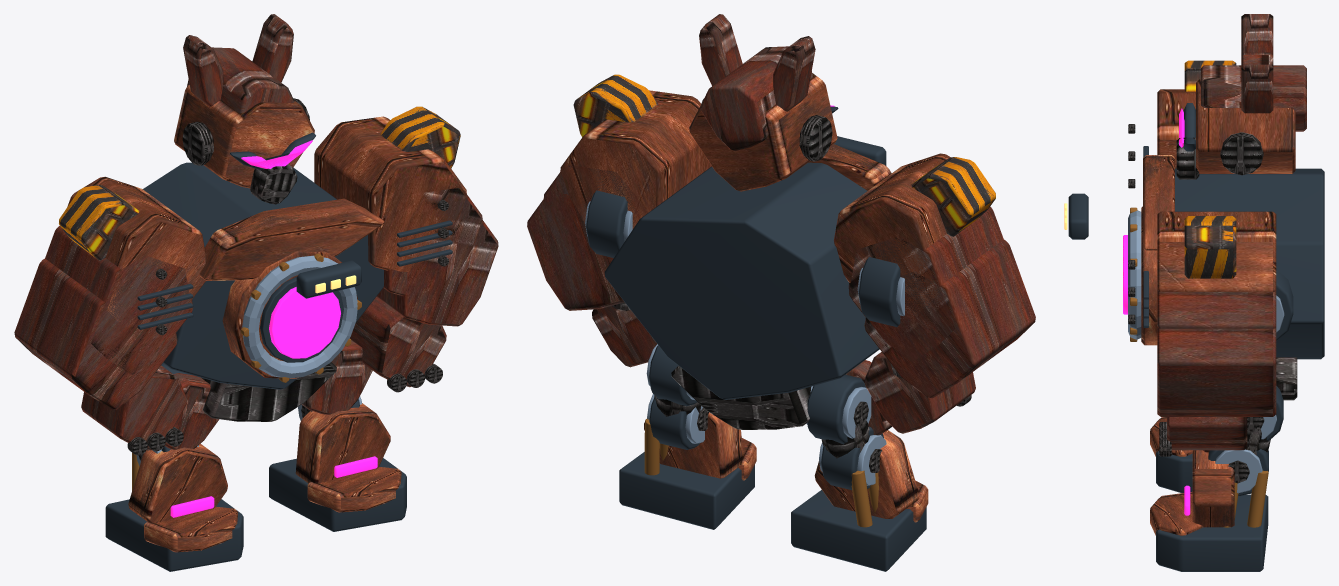
File: sector_09_2.glb
3 renders of one model, left to right at view 1: azimuth 30°, elevation 25°; view 2: azimuth 150°, elevation 25°; view 3: azimuth 270°, elevation 25°, orthographic. The views are drawn at different scales.
Parts seen in each view (by area): view 1: Navy crown, Upper chest plating, Reinforced heavy torso, Face guard, Greave armor, Greave armor.001, Salvaged armor patch, Reactor concentric ring, Reactor lens, Servo housing.001, Servo housing.004, Tapered thigh shield.001 (+1 smaller); view 2: Reinforced heavy torso, Navy crown, Upper chest plating, Servo housing.001, Servo housing.004, Salvaged armor patch, Face guard, Greave armor, Greave armor.001, Bearing ring.002, Hub.002, Calf piston (+5 smaller); view 3: Navy crown, Upper chest plating, Reinforced heavy torso, Servo housing.004, Greave armor.001, Salvaged armor patch, Face guard, Reactor concentric ring, Servo housing.001, Bearing ring.008, Hub.008, Calf piston.002 (+2 smaller).
Boxes of the visible parts, left/top/right/bottom form: Navy crown: left=14, top=14, right=498, bottom=450; Upper chest plating: left=67, top=85, right=466, bottom=378; Reinforced heavy torso: left=137, top=132, right=452, bottom=389; Face guard: left=127, top=98, right=448, bottom=455; Greave armor: left=128, top=443, right=237, bottom=552; Greave armor.001: left=295, top=403, right=401, bottom=512; Salvaged armor patch: left=59, top=106, right=460, bottom=260; Reactor concentric ring: left=242, top=255, right=357, bottom=378; Reactor lens: left=241, top=140, right=340, bottom=358; Servo housing.001: left=105, top=363, right=243, bottom=571; Servo housing.004: left=269, top=399, right=406, bottom=531; Tapered thigh shield.001: left=302, top=340, right=372, bottom=414; Reinforced heavy torso: left=586, top=106, right=900, bottom=399; Navy crown: left=527, top=14, right=1035, bottom=433; Upper chest plating: left=560, top=73, right=950, bottom=319; Servo housing.001: left=791, top=374, right=926, bottom=571; Servo housing.004: left=619, top=345, right=754, bottom=529; Salvaged armor patch: left=573, top=74, right=995, bottom=236; Face guard: left=612, top=99, right=971, bottom=429; Greave armor: left=814, top=430, right=928, bottom=522; Greave armor.001: left=644, top=412, right=756, bottom=480; Bearing ring.002: left=806, top=386, right=886, bottom=485; Hub.002: left=821, top=401, right=882, bottom=472; Calf piston: left=851, top=470, right=878, bottom=527; Navy crown: left=1157, top=14, right=1306, bottom=450; Upper chest plating: left=1141, top=79, right=1295, bottom=345; Reinforced heavy torso: left=1068, top=103, right=1324, bottom=359; Servo housing.004: left=1156, top=386, right=1283, bottom=571; Greave armor.001: left=1150, top=450, right=1234, bottom=535; Salvaged armor patch: left=1184, top=60, right=1236, bottom=278; Face guard: left=1128, top=124, right=1297, bottom=456; Reactor concentric ring: left=1128, top=210, right=1284, bottom=339; Servo housing.001: left=1156, top=451, right=1192, bottom=493; Bearing ring.008: left=1215, top=415, right=1276, bottom=493; Hub.008: left=1228, top=417, right=1270, bottom=483; Calf piston.002: left=1223, top=470, right=1268, bottom=527.
Bounding box in the file's own units: 1.52 × 1.64 × 0.8095.
Materials: 9 (4 with a texture image).
